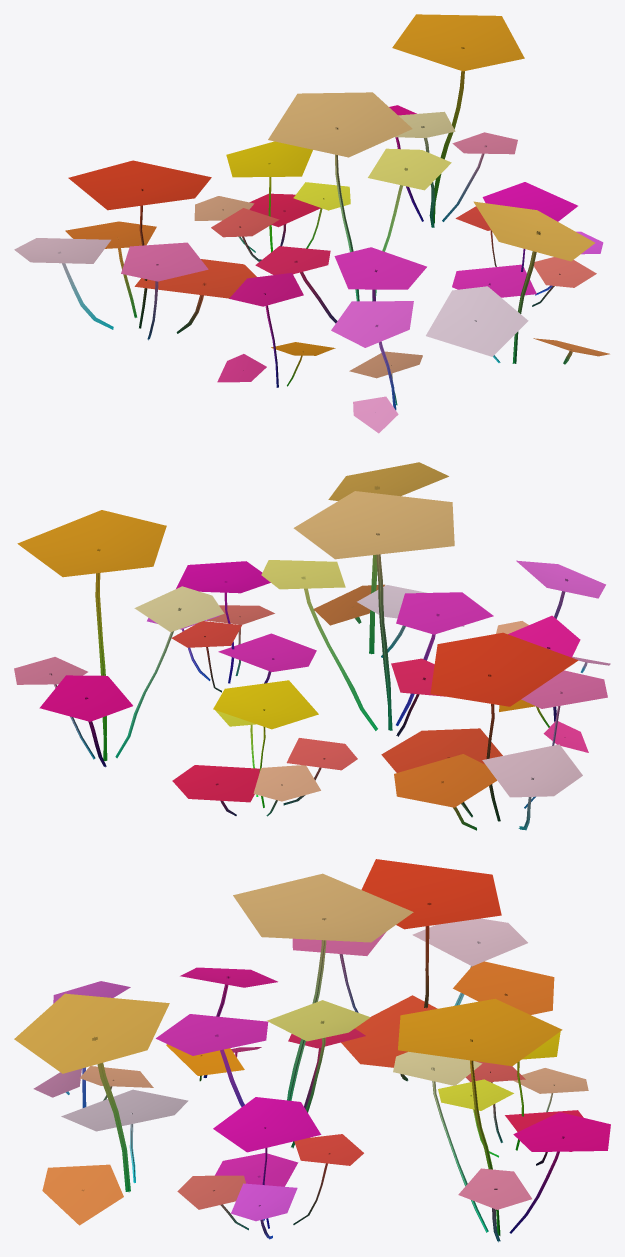
The model's file is Wood_Sorrel_wcwmchzja_Mid_wcwmchzja_VarC_LOD0.fbx.
The picture shows the model from 3 angles, top to bottom: view 1: azimuth 30°, elevation 25°; view 2: azimuth 150°, elevation 25°; view 3: azimuth 270°, elevation 25°; orthographic projection. The views are drawn at different scales.
Parts seen in each view (by area): view 1: _qh9q_VarC_LOD1; view 2: _qh9q_VarC_LOD1; view 3: _qh9q_VarC_LOD1.
Boxes of the visible parts, left/top/right/bottom form: _qh9q_VarC_LOD1: left=14, top=14, right=609, bottom=433; _qh9q_VarC_LOD1: left=14, top=462, right=610, bottom=830; _qh9q_VarC_LOD1: left=14, top=859, right=610, bottom=1242.
Bounding box in the file's own units: 26.2 × 10.44 × 23.58.
